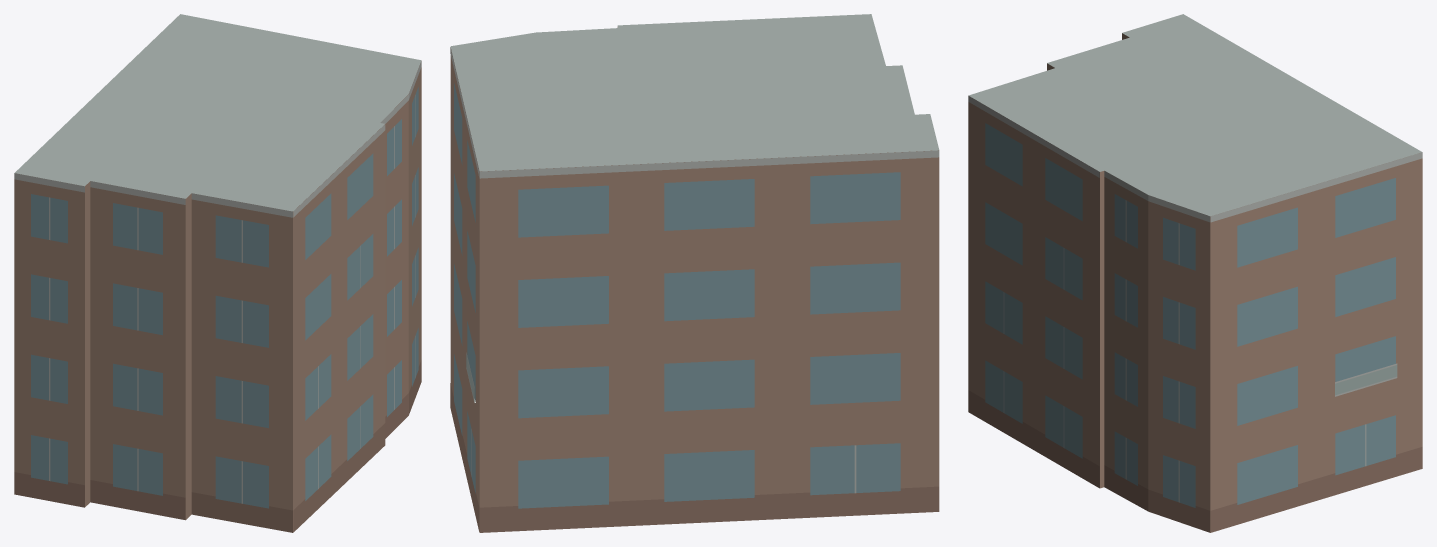
Rendered from survey-upis-32539821.glb.
The picture shows the model from 3 angles, left to right: view 1: azimuth 30°, elevation 25°; view 2: azimuth 150°, elevation 25°; view 3: azimuth 270°, elevation 25°; orthographic projection. The views are drawn at different scales.
Parts seen in each view (by area): view 1: survey-upis-32539821.tmp; view 2: survey-upis-32539821.tmp; view 3: survey-upis-32539821.tmp.
Part boxes in pixels (x1=…): survey-upis-32539821.tmp: x1=14, y1=14, x2=421, y2=532; survey-upis-32539821.tmp: x1=450, y1=14, x2=939, y2=532; survey-upis-32539821.tmp: x1=968, y1=14, x2=1422, y2=532.
Size of the model in its own units: 17.15 by 12.5 by 16.27.
